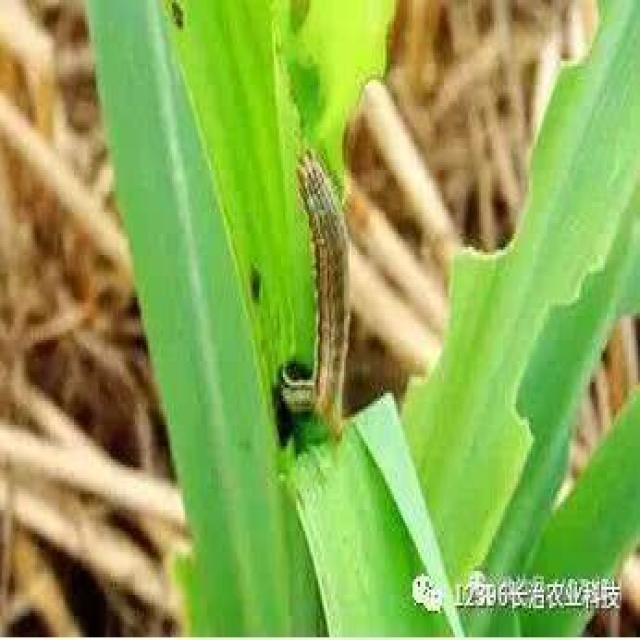pest: (301, 152, 356, 425)
